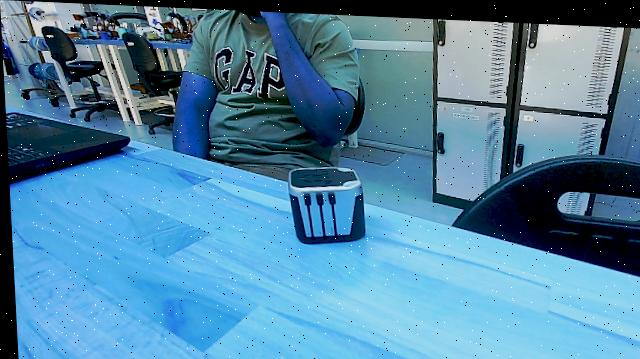adapter: (278, 157, 370, 249)
